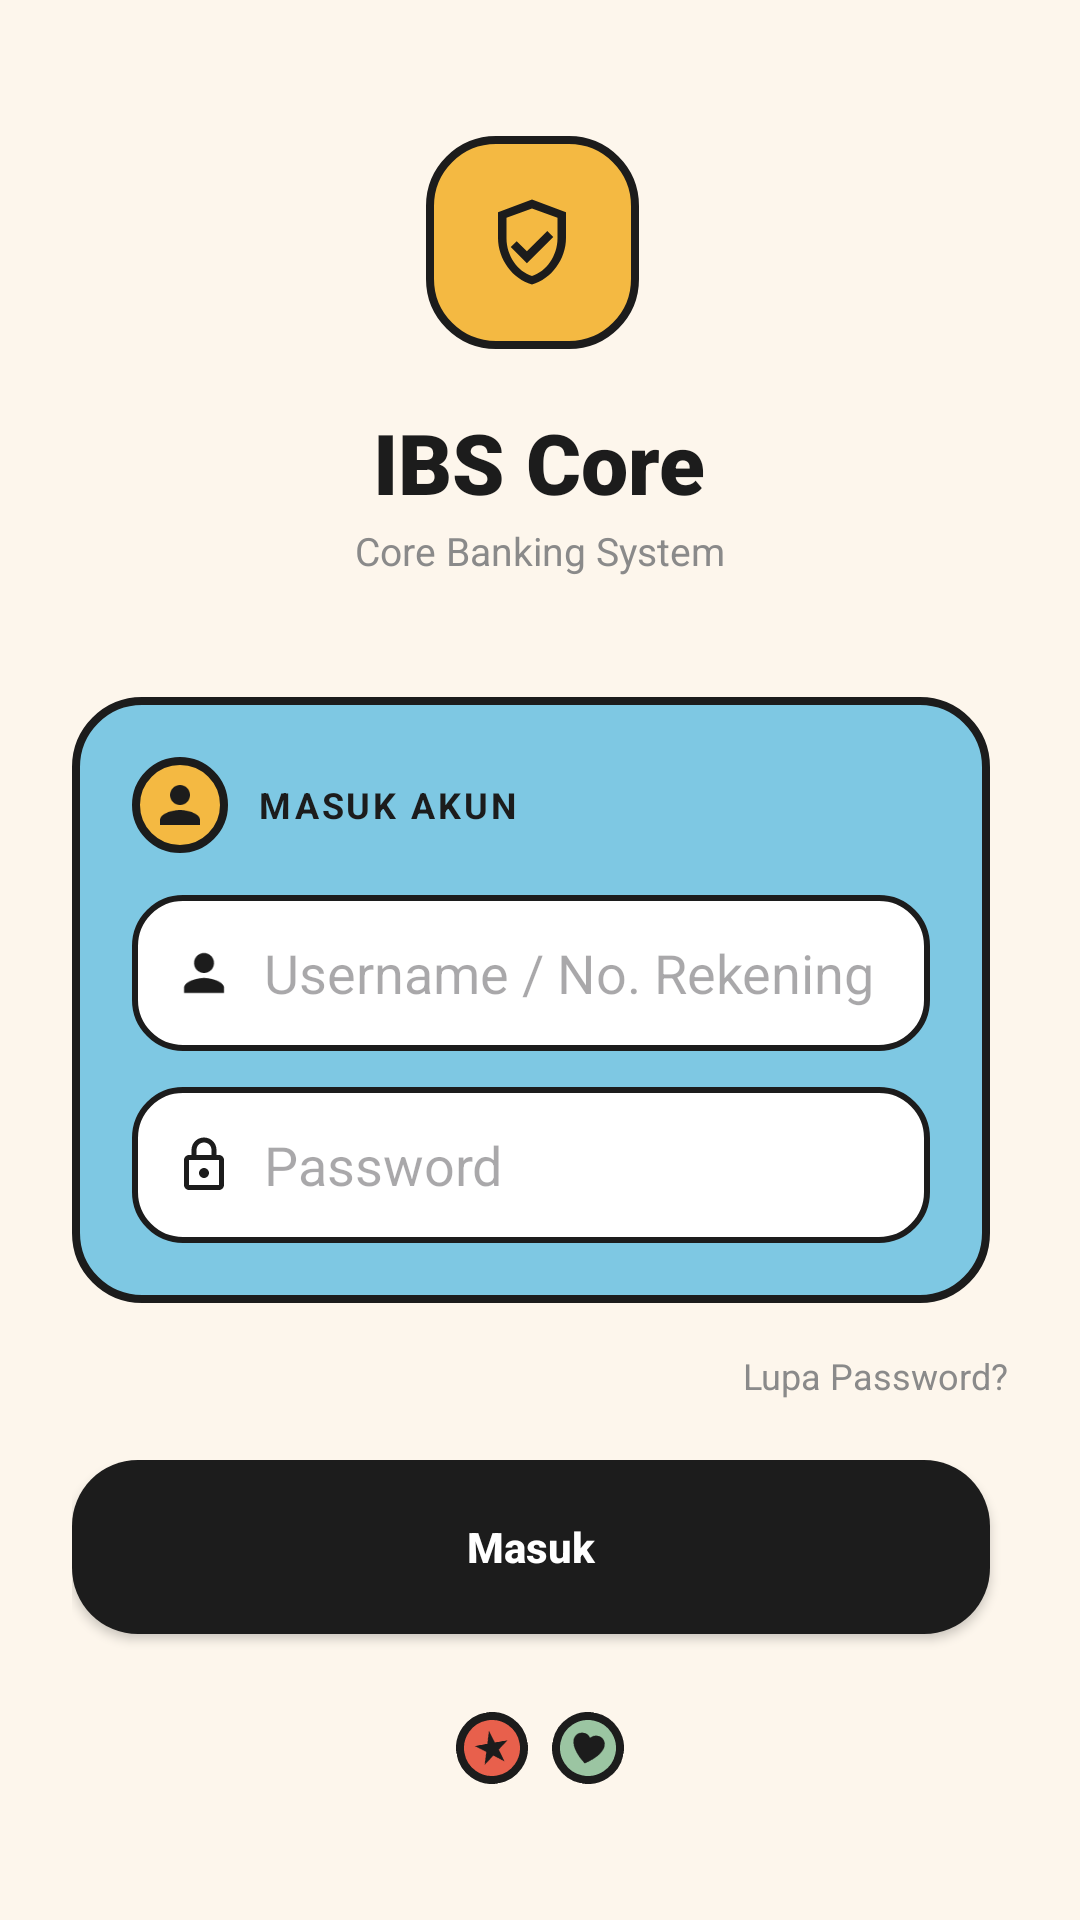

Point at icon controls on the screen. Image size 1080w x 1920h, points as (x,y).
lock: (204,1163)
shield check: (532,242)
